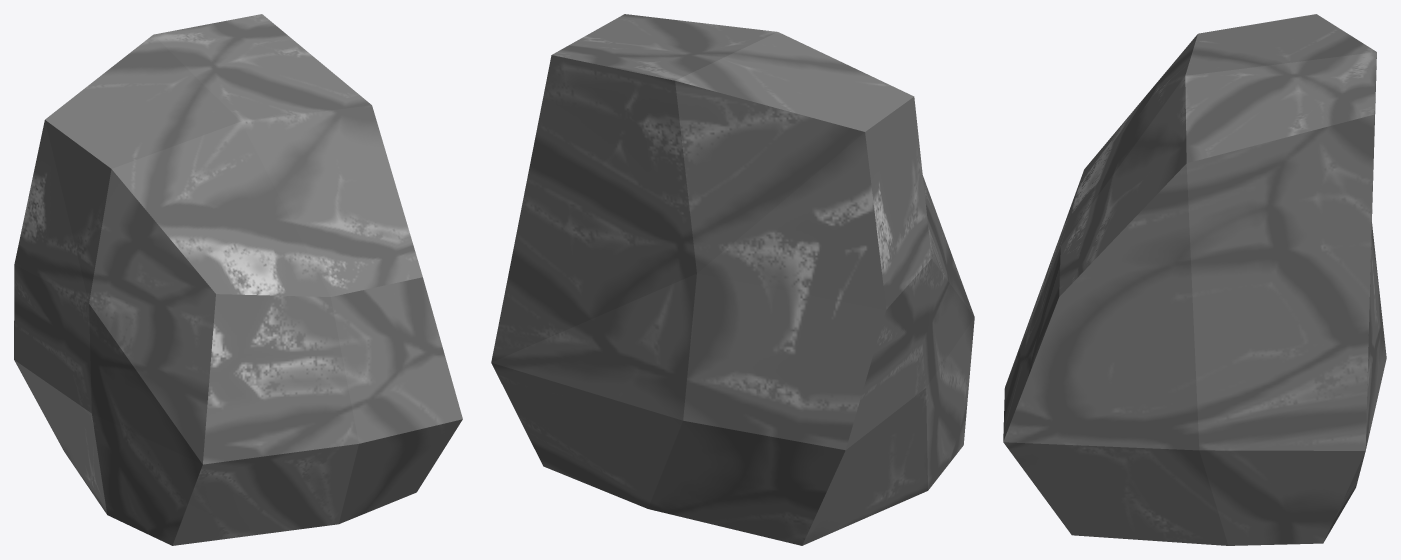
Rendered from Rock_4.FBX.
3 renders of one model, left to right at view 1: azimuth 30°, elevation 25°; view 2: azimuth 150°, elevation 25°; view 3: azimuth 270°, elevation 25°, orthographic. The views are drawn at different scales.
Visible parts, largest first — view 1: Box003; view 2: Box003; view 3: Box003.
Part boxes in pixels (x1=…): Box003: x1=14, y1=14, x2=462, y2=545; Box003: x1=491, y1=14, x2=974, y2=545; Box003: x1=1003, y1=14, x2=1386, y2=545.
Bounding box in the file's own units: 9.95 × 11.27 × 9.37.
